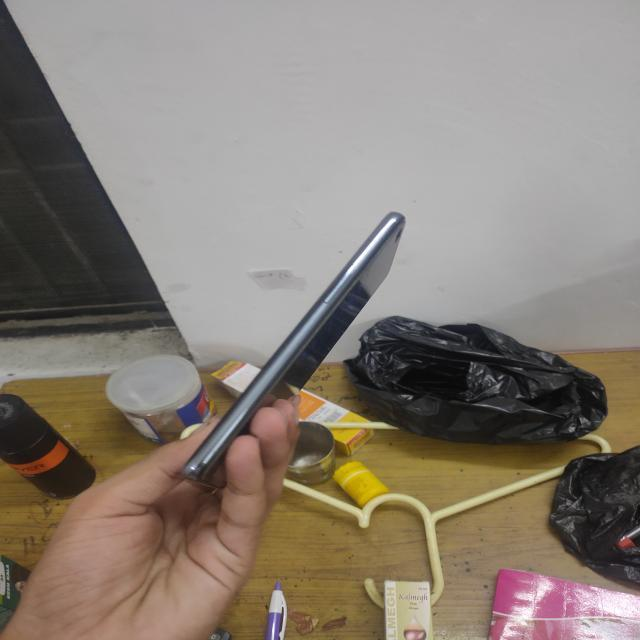Phone: (178, 208, 410, 496)
